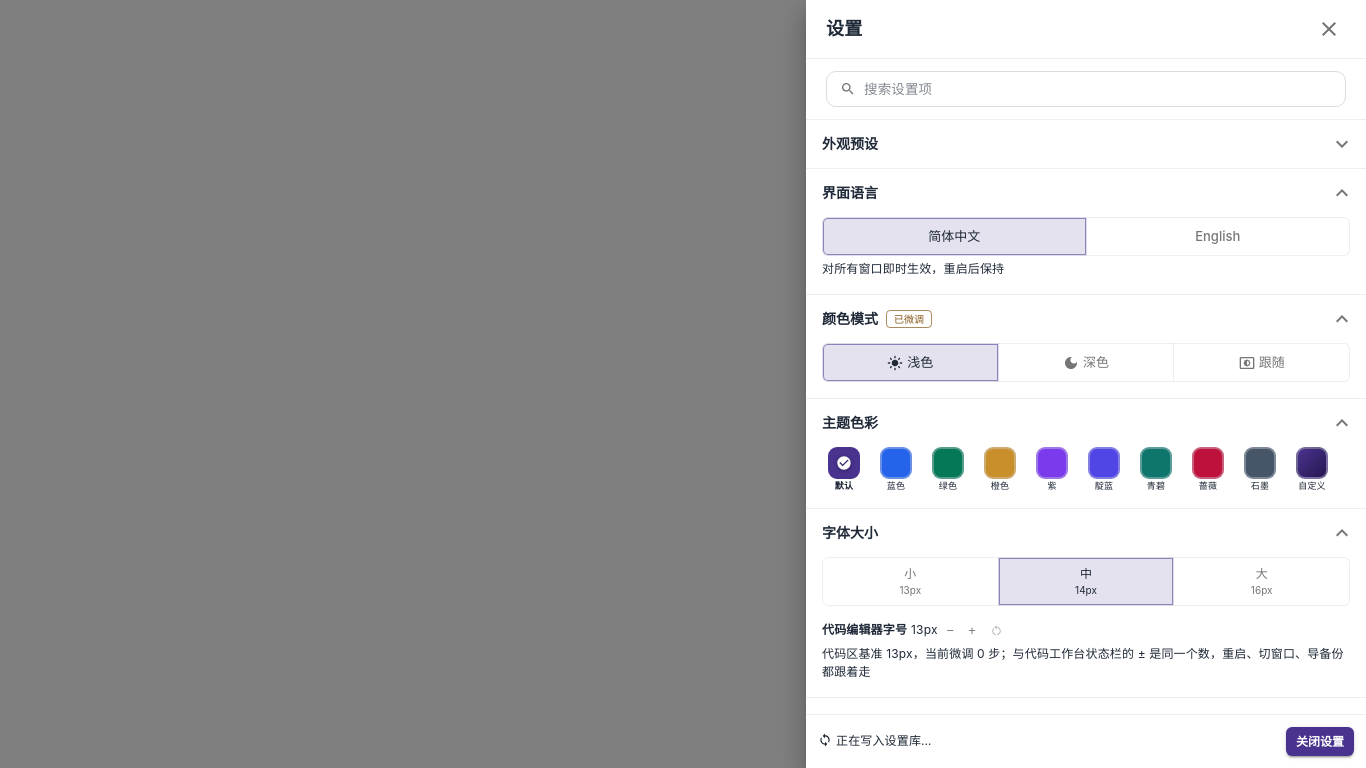
Test: 设置抽屉 · 预设改名 › 自定义预设可改名，改完即写进设置库
Click the button "外观预设": click(850, 144) [806,120,1365,168]
(page scrolled)
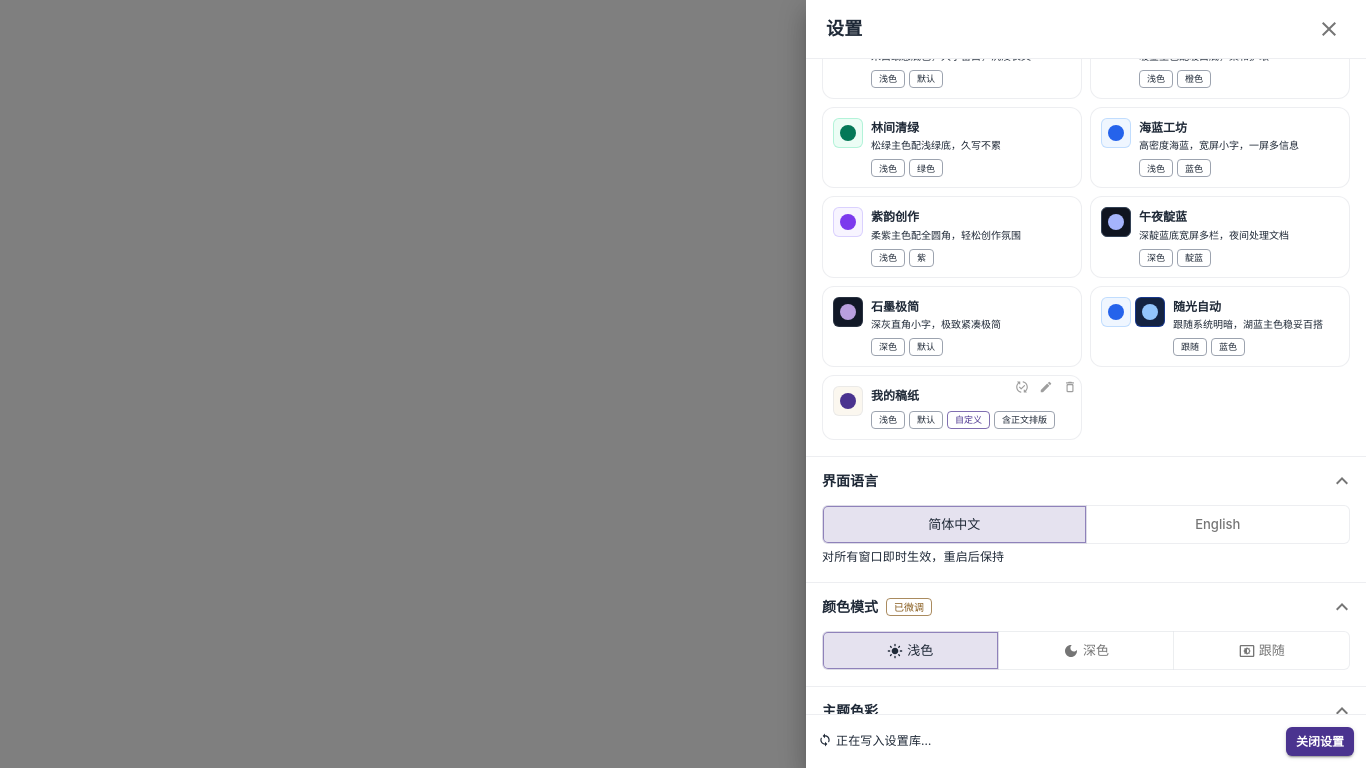
Click the button named "重命名预设": click(1046, 387) [1037,378,1055,396]
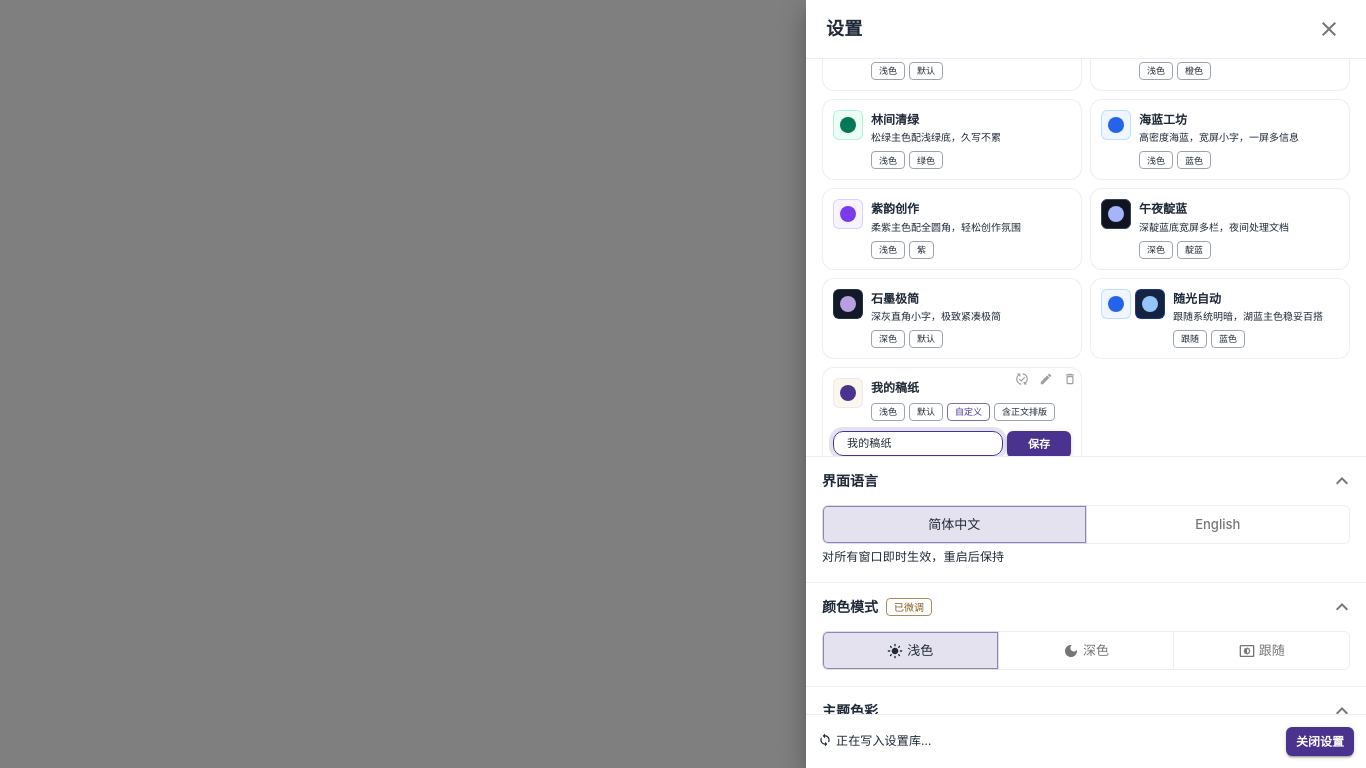
Replace the text in the field with "深夜长稿": (918, 444) [833,431,1003,456]
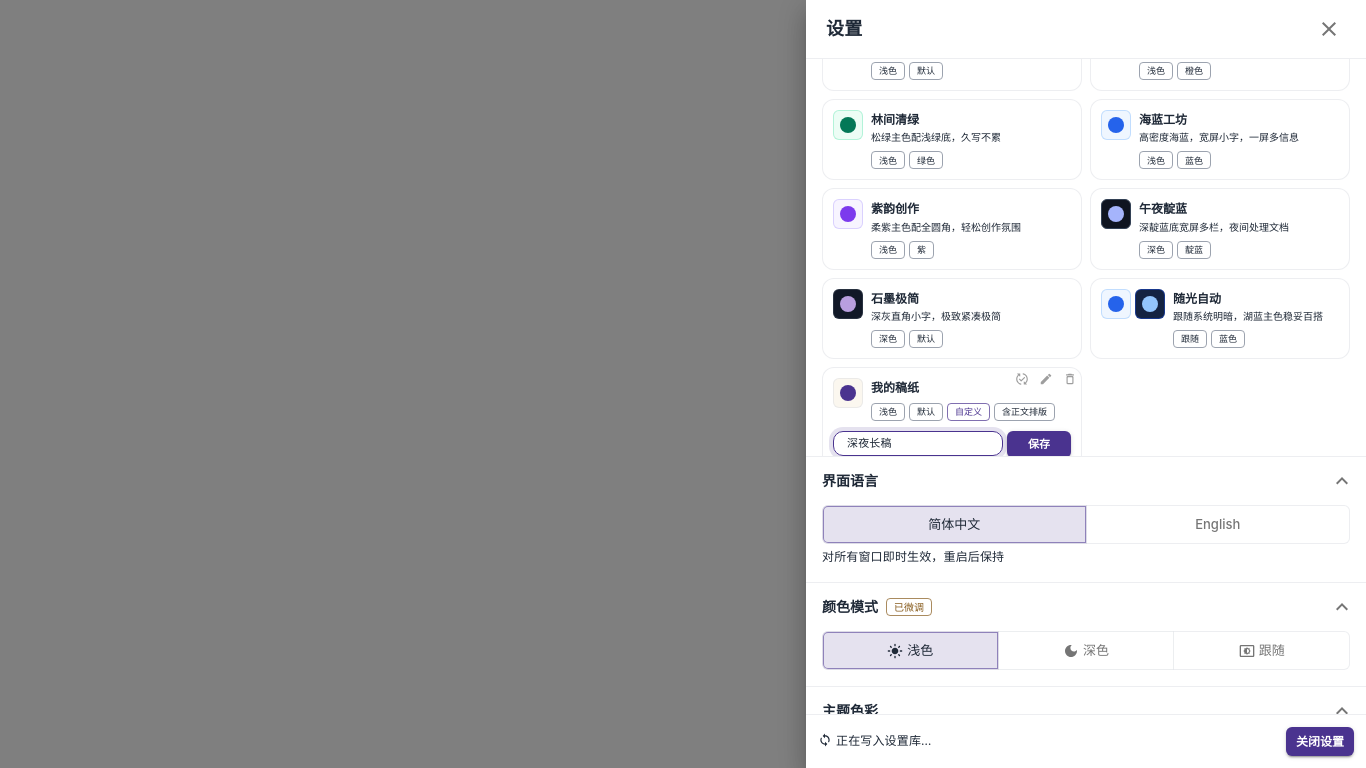
Click the button "保存": click(1039, 445) [1007,431,1071,458]
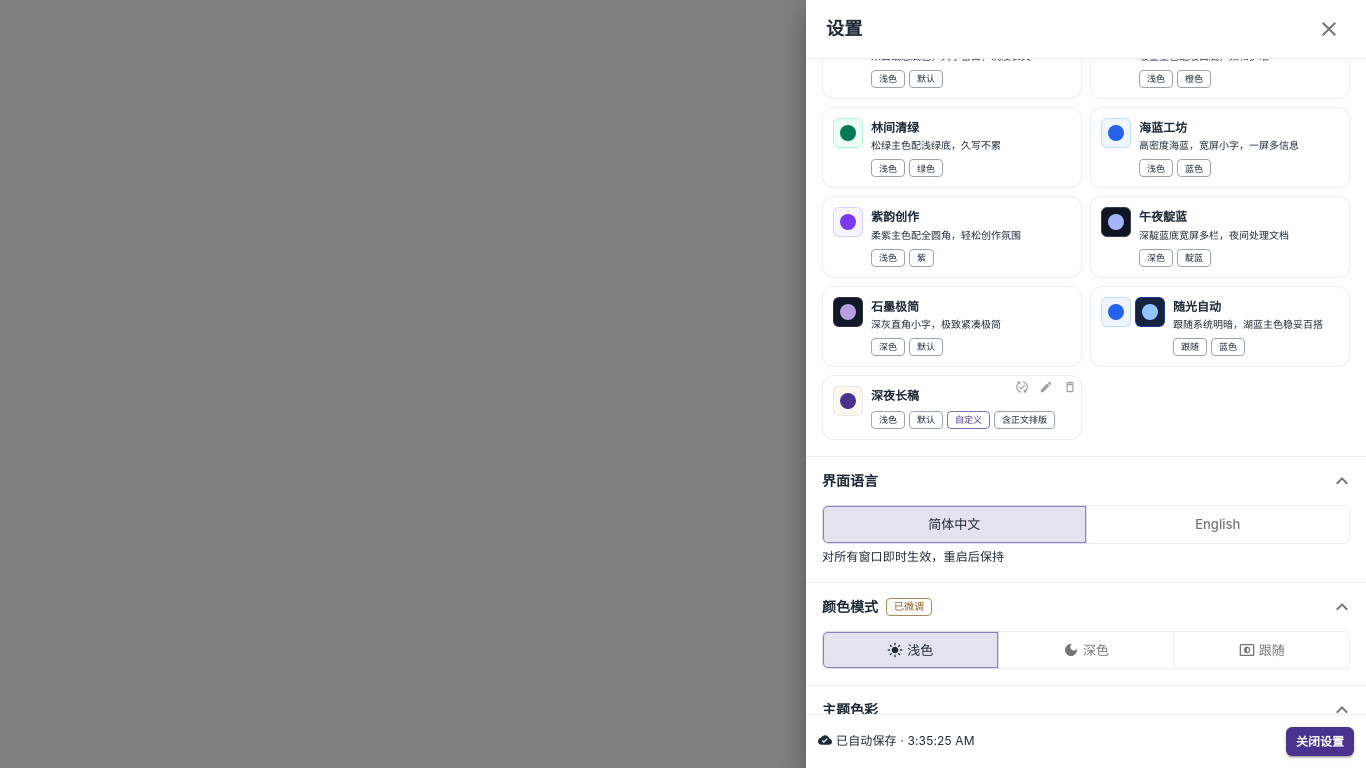
Now the text "深夜长稿" is shown, box [871,386,919,405]
